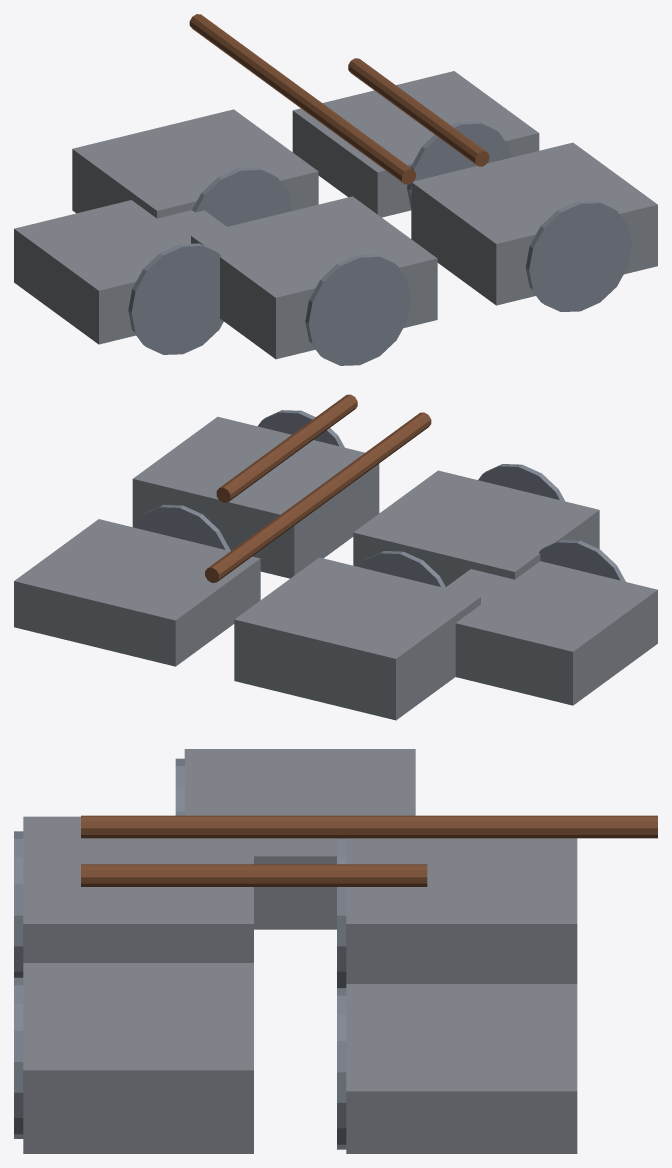
The model's file is PROP_HVAC_Cluster_MD.glb.
The picture shows the model from 3 angles, top to bottom: view 1: azimuth 30°, elevation 25°; view 2: azimuth 150°, elevation 25°; view 3: azimuth 270°, elevation 25°; orthographic projection. The views are drawn at different scales.
Parts seen in each view (by area): view 1: PROP_HVAC_Cluster_MD; view 2: PROP_HVAC_Cluster_MD; view 3: PROP_HVAC_Cluster_MD.
Part boxes in pixels (<box>): PROP_HVAC_Cluster_MD: <box>14,14,657,365</box>; PROP_HVAC_Cluster_MD: <box>14,394,657,720</box>; PROP_HVAC_Cluster_MD: <box>14,749,657,1153</box>.
Size of the model in its own units: 3.4 by 1.09 by 2.79.
